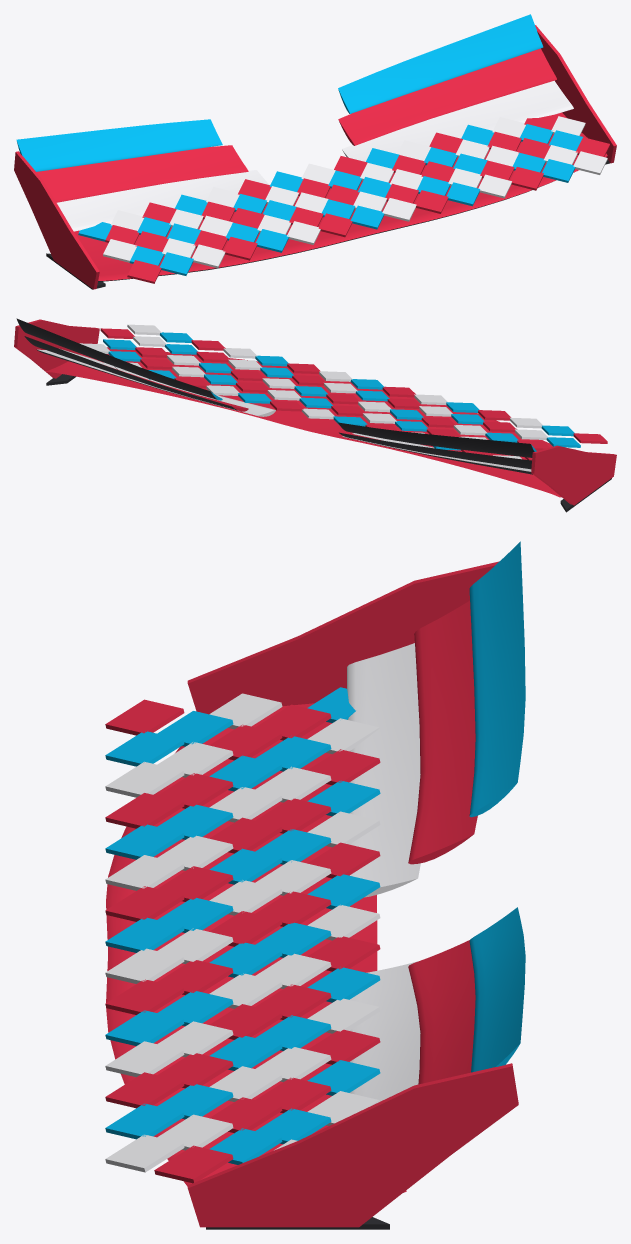
File: scales.glb
3 views of the same model, one above another, from view 1: azimuth 30°, elevation 25°; view 2: azimuth 150°, elevation 25°; view 3: azimuth 270°, elevation 25° (orthographic). The views are drawn at different scales.
Visible parts, largest first — view 1: FrontWing_scales; view 2: FrontWing_scales; view 3: FrontWing_scales.
Part boxes in pixels (box(x1,y1,x2,y2)): FrontWing_scales: box(14, 14, 616, 289); FrontWing_scales: box(14, 318, 616, 512); FrontWing_scales: box(105, 541, 525, 1229).
Bounding box in the file's own units: 1.96 × 0.3313 × 0.6864.
